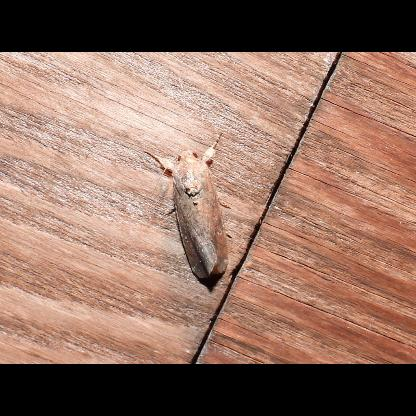Fall Armyworm Moth: (142, 132, 234, 280)
